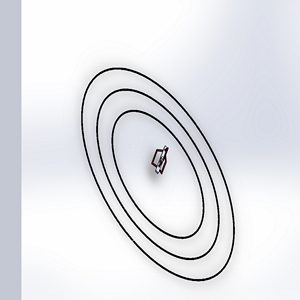circle: (71, 59, 244, 291)
submarine: (141, 141, 179, 182)
